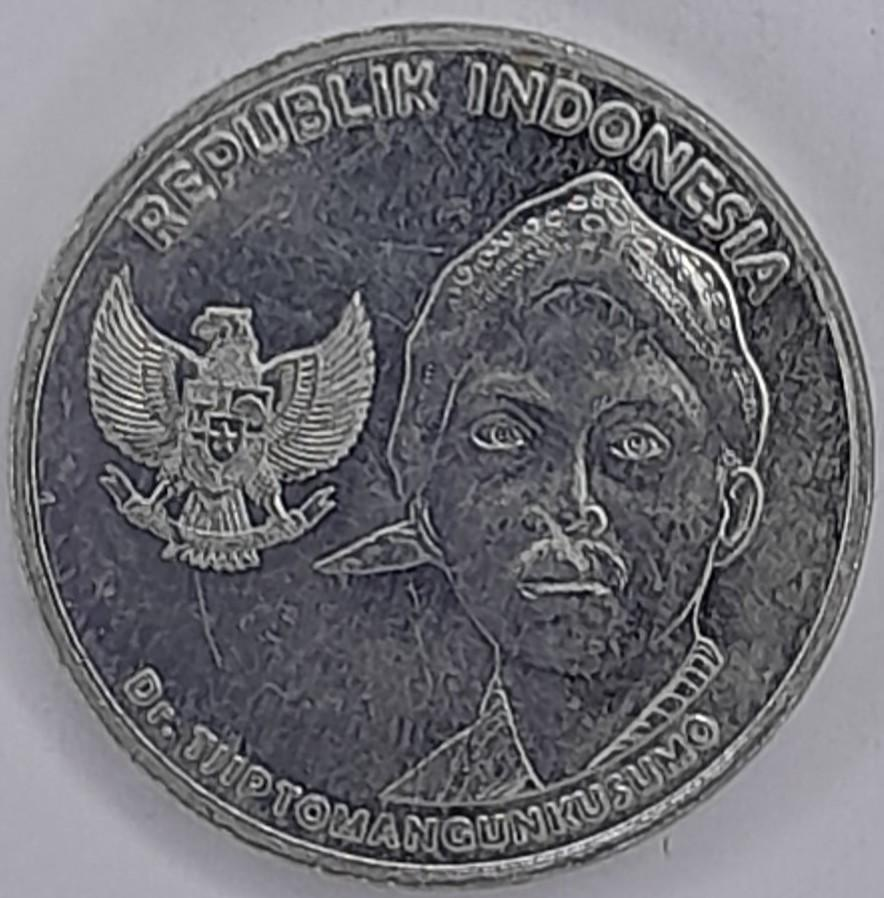coin_200_e2016: (0, 16, 884, 898)
